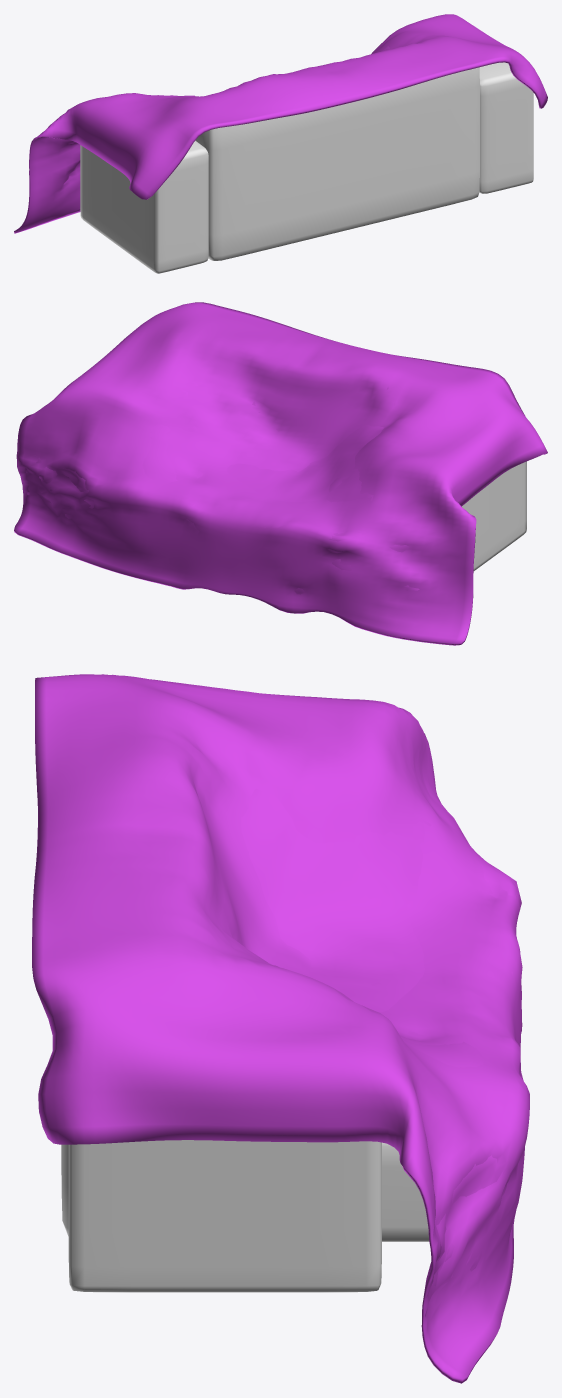
The model's file is couch.fbx.
3 renders of one model, top to bottom at view 1: azimuth 30°, elevation 25°; view 2: azimuth 150°, elevation 25°; view 3: azimuth 270°, elevation 25°, orthographic. The views are drawn at different scales.
Visible parts, largest first — view 1: couch, cloth; view 2: cloth, couch; view 3: cloth, couch.
Boxes of the visible parts, x1,y1,x2,y2 form: couch: (80,62,533,273); cloth: (14,14,547,233); cloth: (14,302,547,645); couch: (461,461,526,570); cloth: (32,674,529,1383); couch: (61,1140,429,1292).
Bounding box in the file's own units: 673 × 256 × 318.
